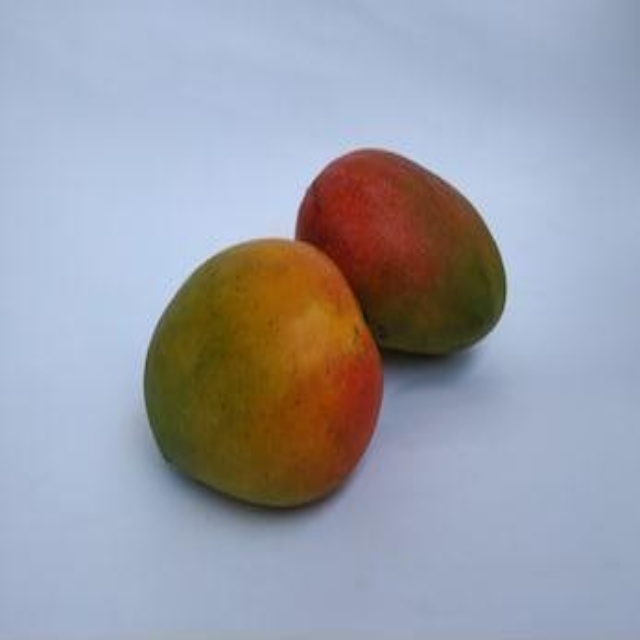mango: (143, 237, 396, 511), (296, 147, 504, 356)
